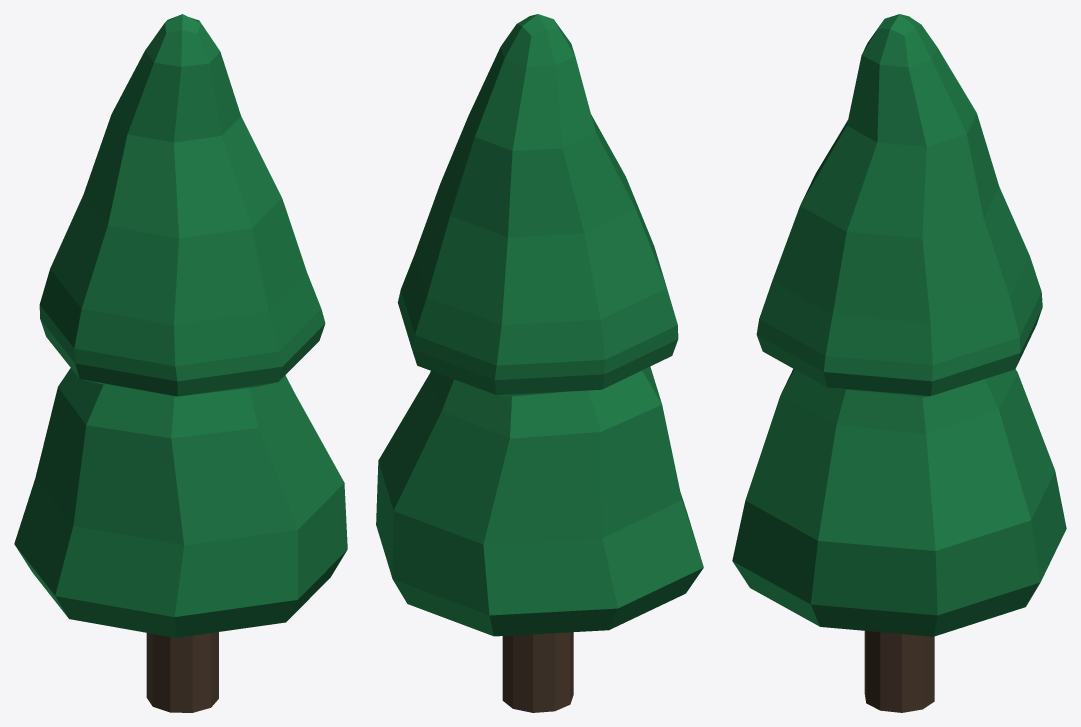
File: TreeTest.gltf
The picture shows the model from 3 angles, left to right: view 1: azimuth 30°, elevation 25°; view 2: azimuth 150°, elevation 25°; view 3: azimuth 270°, elevation 25°; orthographic projection.
Parts seen in each view (by area): view 1: Tree.001; view 2: Tree.001; view 3: Tree.001.
Part boxes in pixels (bbox=[...]): Tree.001: bbox=[14, 14, 347, 712]; Tree.001: bbox=[376, 14, 703, 712]; Tree.001: bbox=[732, 14, 1066, 712].
Bounding box in the file's own units: 2.22 × 5.01 × 2.22.
